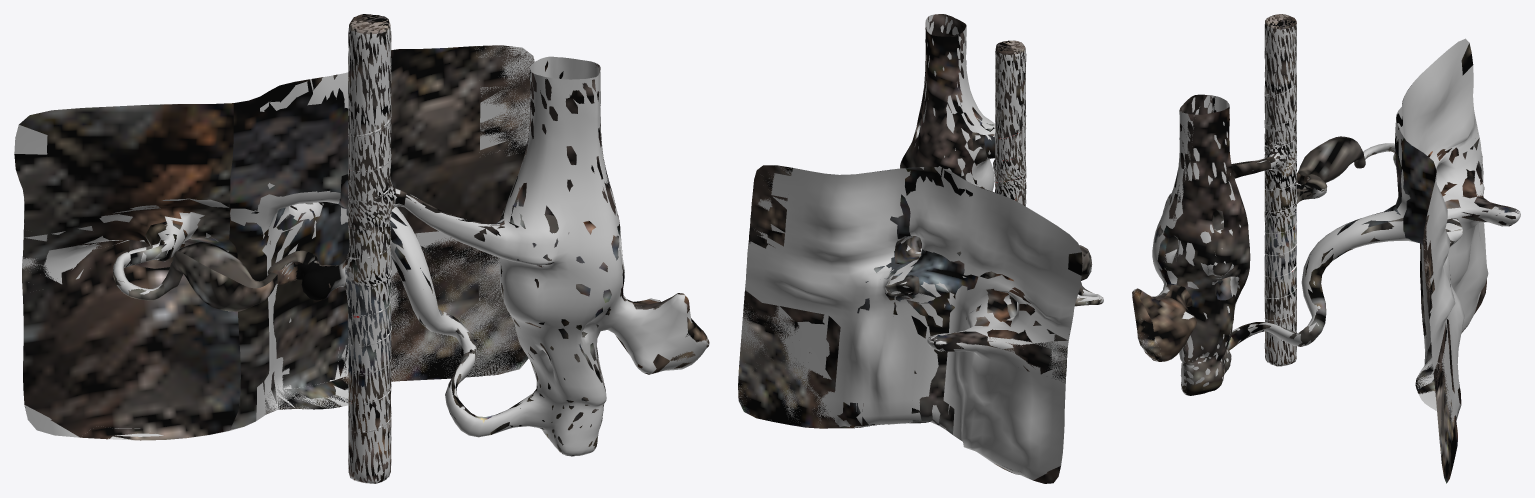
The model's file is World1_Cave_9-30.fbx.
3 views of the same model, side by side, from view 1: azimuth 30°, elevation 25°; view 2: azimuth 150°, elevation 25°; view 3: azimuth 270°, elevation 25° (orthographic). The views are drawn at different scales.
Parts seen in each view (by area): view 1: CaveBaseBase, CaveBase.008, CaveBase.007, FlippedCaveBases.015, FlippedCaveBases.016, CaveBase.009, CaveBase.001, CaveBase.002, FlippedCaveBases.019, CaveBase.003, FlippedCaveBases.011, CaveBase.006 (+4 smaller); view 2: CaveBaseBase, CaveBase.008, CaveBase.002, FlippedCaveBases.016, CaveBase.007, CaveBase.009, FlippedCaveBases.012, FlippedCaveBases.015, CaveBase.003, CaveBase.010, FlippedCaveBases.019; view 3: CaveBaseBase, CaveBase.002, CaveBase.009, CaveBase.008, FlippedCaveBases.012, CaveBase.005, CaveBase.003, CaveBase.001, CaveBase.007, FlippedCaveBases.016, FlippedCaveBases.019, FlippedCaveBases.018 (+6 smaller).
Boxes of the visible parts, x1,y1,x2,y2 form: CaveBaseBase: (14, 14, 709, 483); CaveBase.008: (229, 45, 534, 429); CaveBase.007: (14, 103, 240, 440); FlippedCaveBases.015: (15, 103, 240, 440); FlippedCaveBases.016: (229, 45, 529, 429); CaveBase.009: (345, 14, 406, 483); CaveBase.001: (161, 242, 277, 311); CaveBase.002: (490, 61, 624, 456); FlippedCaveBases.019: (345, 14, 406, 482); CaveBase.003: (338, 174, 496, 435); FlippedCaveBases.011: (162, 243, 277, 311); CaveBase.006: (113, 221, 186, 300); CaveBaseBase: (738, 14, 1103, 480); CaveBase.008: (738, 165, 989, 439); CaveBase.002: (900, 14, 984, 188); FlippedCaveBases.016: (739, 165, 976, 433); CaveBase.007: (929, 191, 1082, 483); CaveBase.009: (993, 40, 1026, 205); FlippedCaveBases.012: (900, 14, 983, 187); FlippedCaveBases.015: (931, 253, 1081, 483); CaveBase.003: (895, 236, 921, 264); CaveBase.010: (971, 123, 995, 164); FlippedCaveBases.019: (994, 42, 1025, 204); CaveBaseBase: (1132, 14, 1520, 433); CaveBase.002: (1154, 94, 1250, 395); CaveBase.009: (1264, 14, 1296, 366); CaveBase.008: (1395, 98, 1462, 483); FlippedCaveBases.012: (1155, 95, 1250, 395); CaveBase.005: (1132, 284, 1197, 361); CaveBase.003: (1227, 204, 1403, 350); CaveBase.001: (1296, 136, 1365, 184); CaveBase.007: (1407, 43, 1519, 333); FlippedCaveBases.016: (1395, 114, 1460, 482); FlippedCaveBases.019: (1264, 16, 1296, 364); FlippedCaveBases.018: (1132, 285, 1196, 360).
Size of what is drawn, in the model's own units: 604 by 572 by 544.
